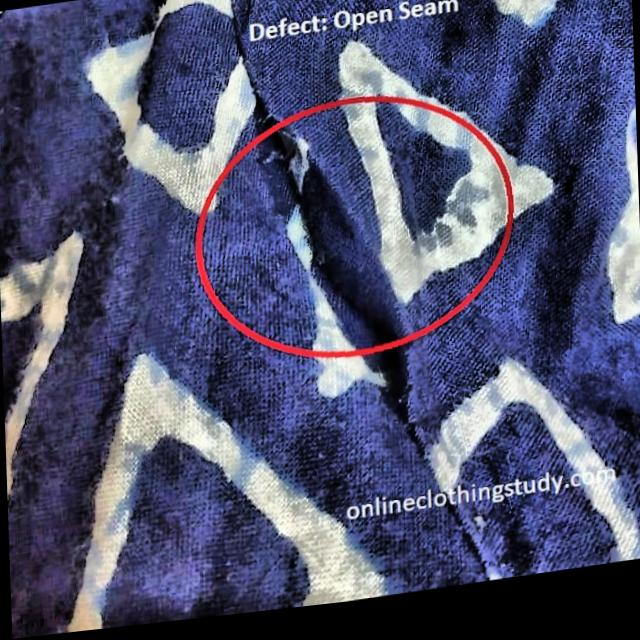seam: (253, 86, 439, 460)
